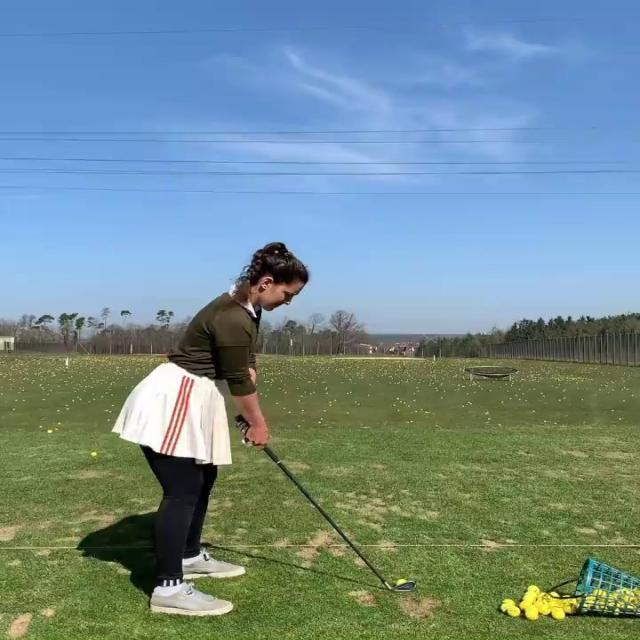ClubHead: (392, 579, 415, 594)
GolfBall: (551, 610, 567, 623), (392, 576, 407, 586), (526, 615, 541, 623), (510, 607, 520, 618), (503, 597, 513, 607), (523, 606, 534, 615), (551, 592, 561, 601), (524, 590, 535, 598), (527, 585, 539, 592), (503, 607, 515, 613), (542, 607, 552, 614), (566, 606, 577, 612), (524, 599, 532, 607), (552, 600, 561, 607), (555, 606, 565, 612), (571, 597, 578, 605), (538, 603, 547, 609), (537, 596, 545, 602), (561, 601, 569, 607)
